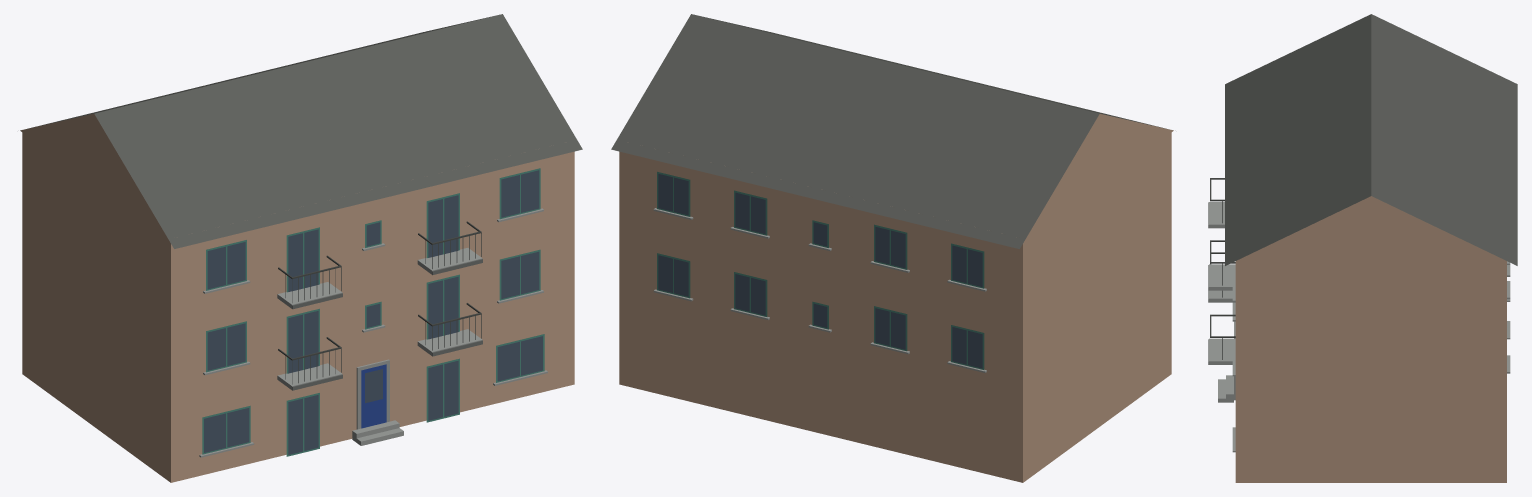
Rendered from nw-portiek-3st-blue-door__brick-green__3__gable__long__solid.glb.
3 views of the same model, side by side, from view 1: azimuth 30°, elevation 25°; view 2: azimuth 150°, elevation 25°; view 3: azimuth 270°, elevation 25° (orthographic). The views are drawn at different scales.
Parts seen in each view (by area): view 1: nw-portiek-3st-blue-door__brick-green__3__gable__long__solid; view 2: nw-portiek-3st-blue-door__brick-green__3__gable__long__solid; view 3: nw-portiek-3st-blue-door__brick-green__3__gable__long__solid.
Boxes of the visible parts, box(x1,y1,x2,y2) form: nw-portiek-3st-blue-door__brick-green__3__gable__long__solid: box(20, 14, 582, 482); nw-portiek-3st-blue-door__brick-green__3__gable__long__solid: box(611, 14, 1173, 482); nw-portiek-3st-blue-door__brick-green__3__gable__long__solid: box(1208, 14, 1517, 482).
Bounding box in the file's own units: 16.17 × 11.99 × 11.61.
